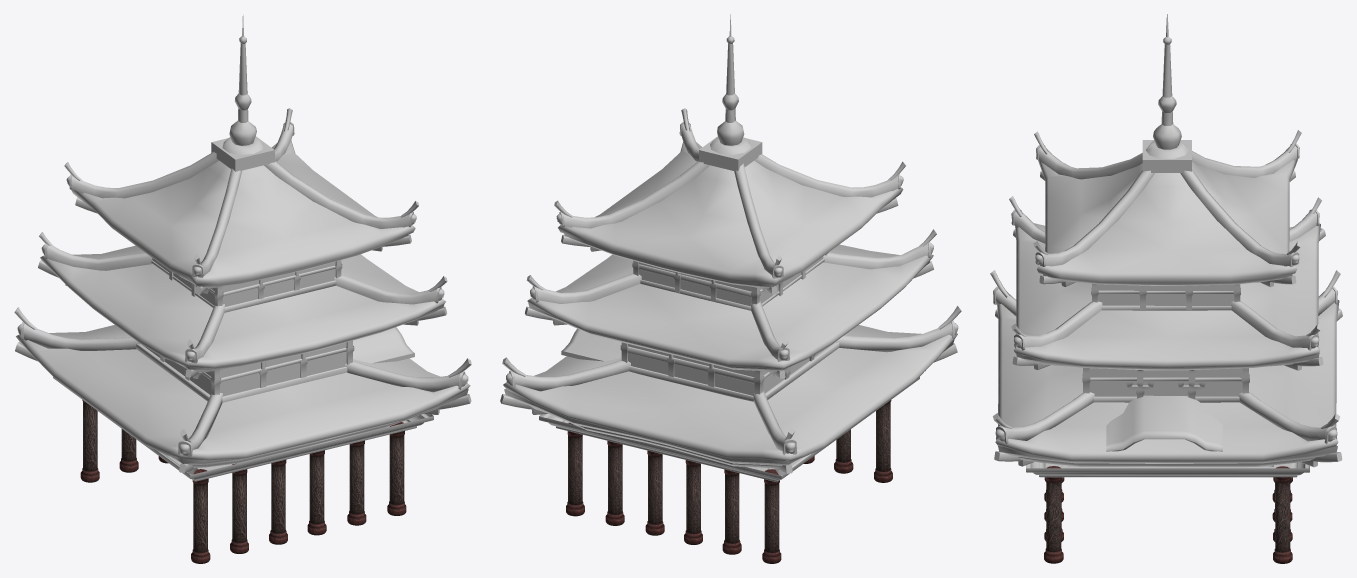
File: SM_AsianCastle_E.FBX
The picture shows the model from 3 angles, left to right: view 1: azimuth 30°, elevation 25°; view 2: azimuth 150°, elevation 25°; view 3: azimuth 270°, elevation 25°; orthographic projection. The views are drawn at different scales.
Visible parts, largest first — view 1: SM_AsianCastle_E; view 2: SM_AsianCastle_E; view 3: SM_AsianCastle_E.
Part boxes in pixels (x1,y1,x2,y2): SM_AsianCastle_E: (14, 14, 471, 563); SM_AsianCastle_E: (500, 14, 961, 563); SM_AsianCastle_E: (990, 14, 1342, 563).
Size of the model in its own units: 1526 by 1536 by 2384.
